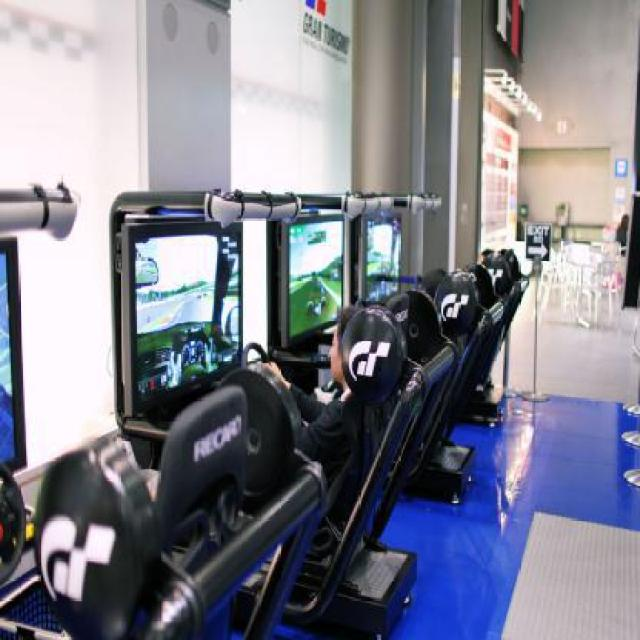Person: (262, 305, 360, 523), (422, 267, 456, 307), (615, 214, 631, 254), (474, 245, 495, 261)
